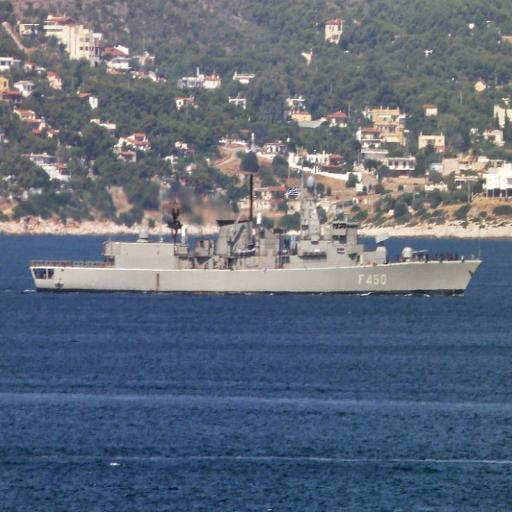Fragata: (31, 153, 485, 298)
